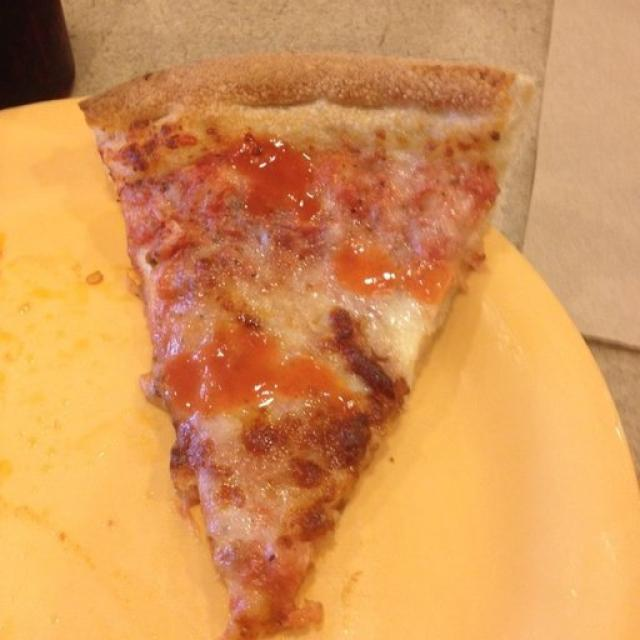Pizza: (79, 55, 538, 635)
